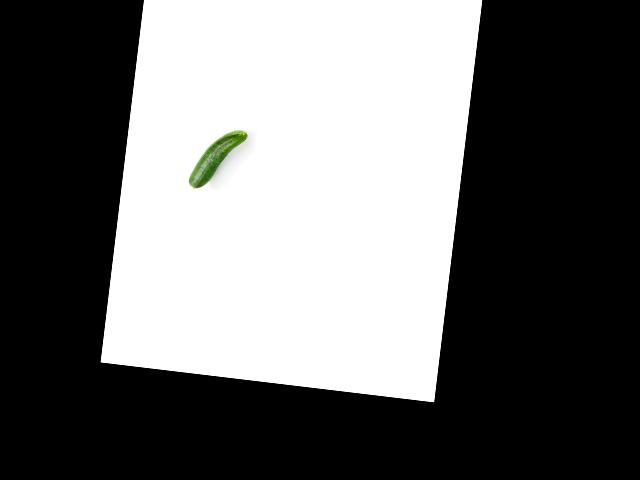cucumber: (188, 125, 248, 193)
